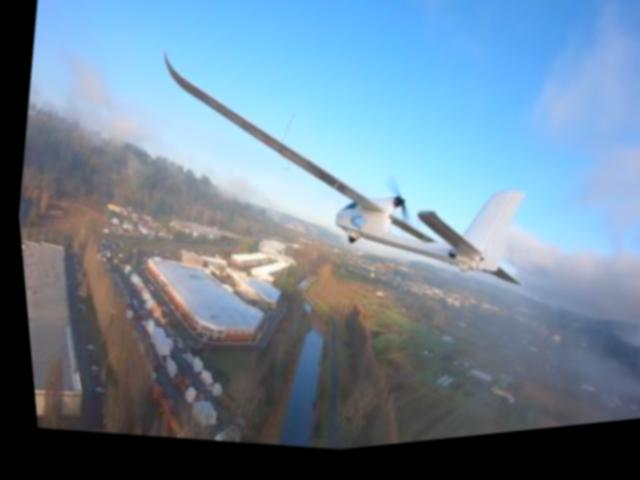uav: (114, 5, 565, 338)
